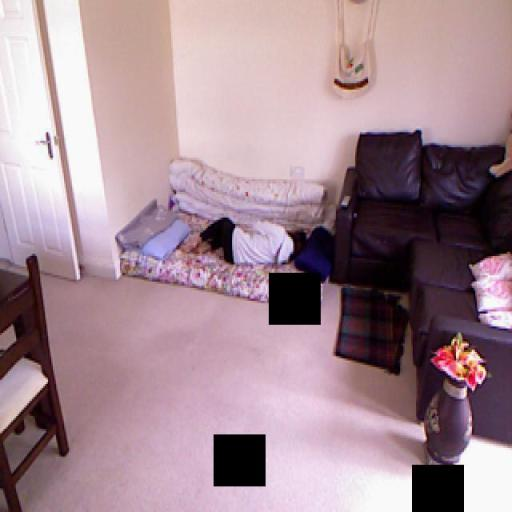Fall: (180, 218, 311, 267)
